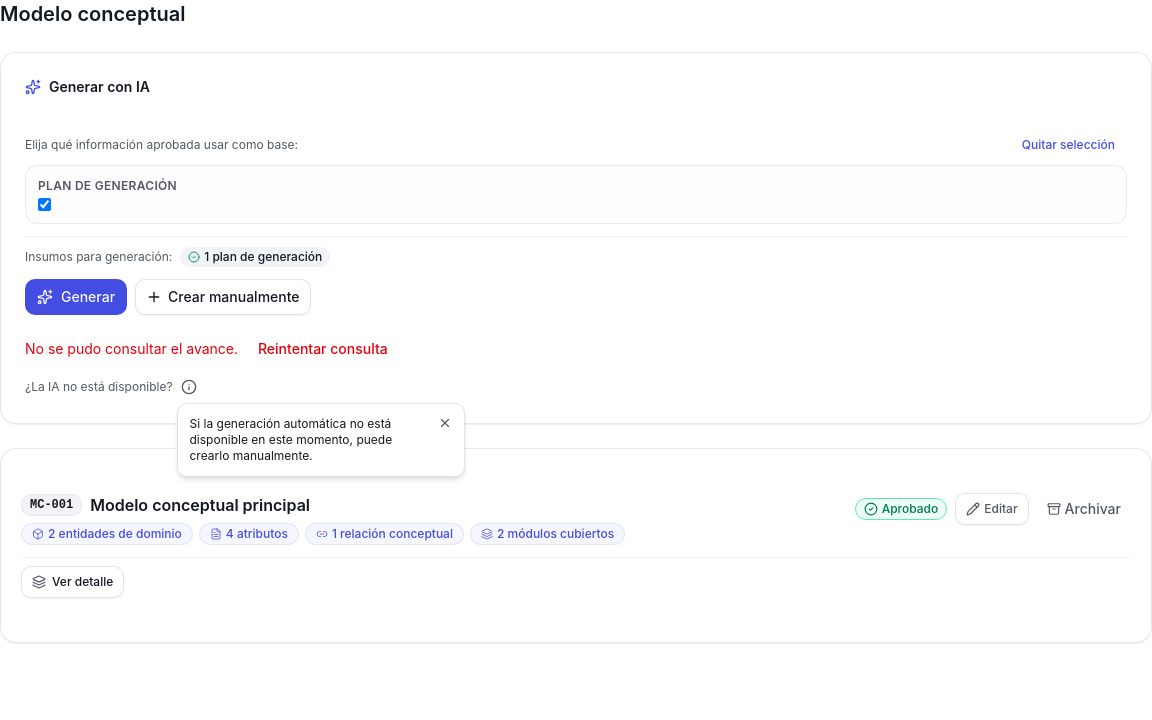
Test case: ConceptualModelPage › toggles detail and renders ConceptualModelDetail with entities and relationships
Check: the text "MC-001" is shown, box [21,494,82,516]
Step 1. Click the button "Ver detalle" → (73, 582), box [21,566,124,598]
(page scrolled)
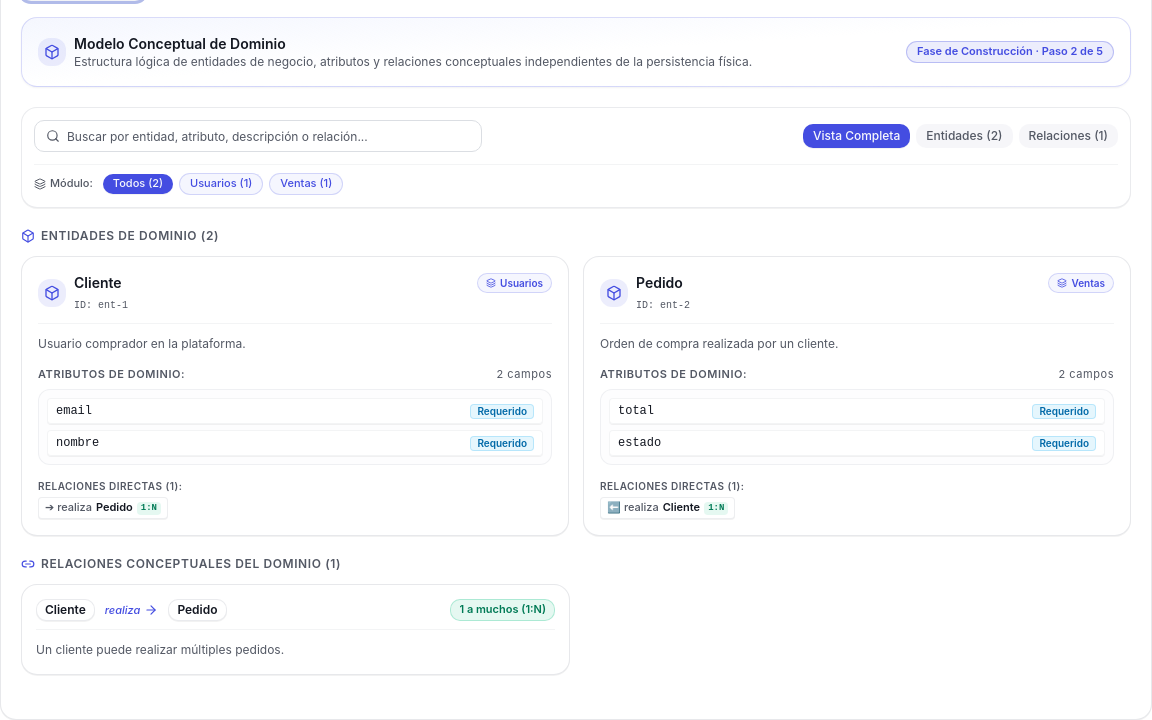
Check: the heading "Modelo Conceptual de Dominio" is shown, box [74,35,286,52]
Check: the heading "Cliente" is shown, box [74,273,128,293]
Check: the heading "Pedido" is shown, box [636,273,690,293]
